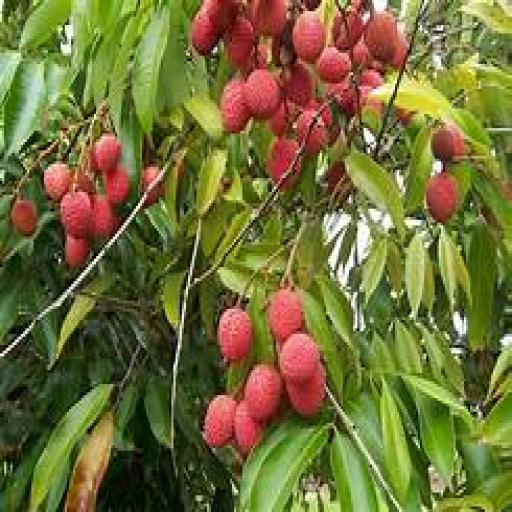lychee: (245, 365, 282, 422), (278, 332, 319, 383), (287, 365, 326, 417), (268, 290, 303, 345), (218, 307, 252, 361), (243, 70, 280, 119), (364, 12, 399, 63), (293, 12, 326, 63), (203, 396, 236, 447), (427, 170, 459, 222), (268, 137, 300, 189), (220, 78, 250, 133), (224, 17, 254, 69), (297, 109, 330, 155), (61, 190, 91, 239), (235, 401, 263, 453), (249, 0, 286, 36), (201, 0, 238, 36), (191, 9, 219, 55), (333, 9, 363, 50), (285, 62, 313, 105), (318, 48, 351, 83), (431, 126, 463, 161), (90, 195, 114, 239), (44, 162, 71, 200), (11, 198, 37, 236), (95, 134, 121, 172), (105, 165, 129, 205), (143, 165, 165, 205), (65, 234, 89, 267), (268, 101, 288, 136), (349, 39, 371, 69), (391, 31, 407, 69), (327, 162, 346, 194), (76, 170, 96, 194), (360, 70, 384, 89), (306, 0, 321, 11)
